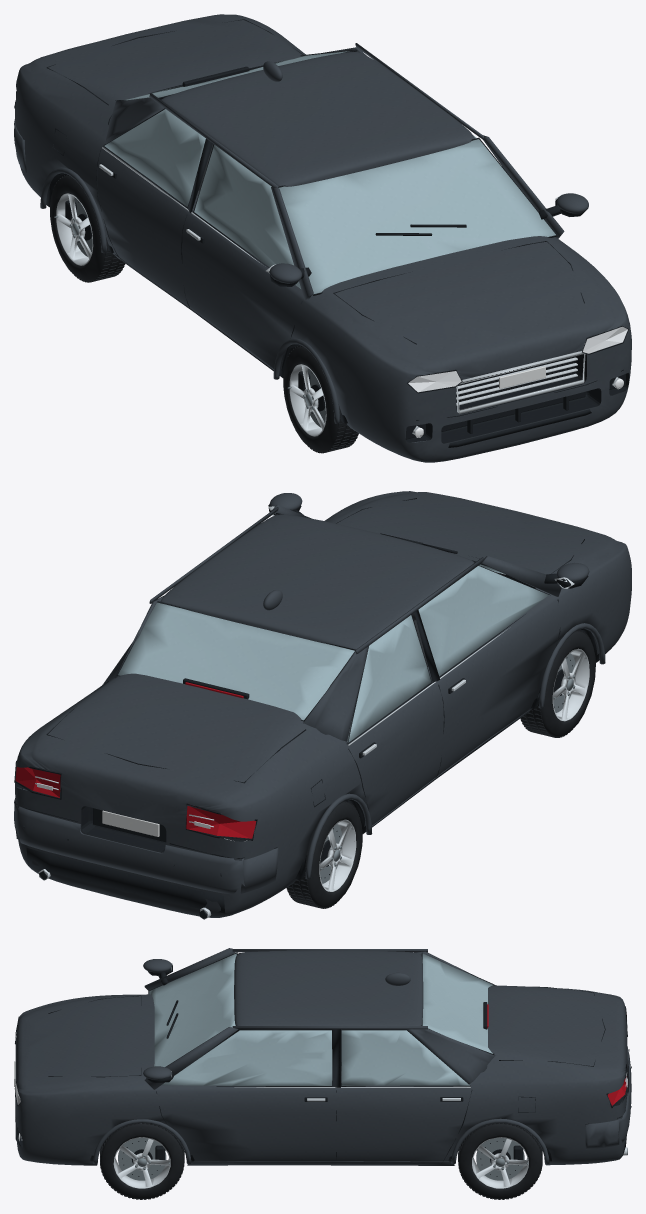
Rendered from sedan-lod0.glb.
3 views of the same model, one above another, from view 1: azimuth 30°, elevation 25°; view 2: azimuth 150°, elevation 25°; view 3: azimuth 270°, elevation 25° (orthographic). The views are drawn at different scales.
Parts seen in each view (by area): view 1: body_paint, body_glass.001, body_black.001, wheelpart_rubber.001 (×2), body_chrome, wheelpart_chrome (×2), body_clearlens; view 2: body_paint, body_glass.001, body_black.001, wheelpart_rubber.001 (×2), wheelpart_chrome (×2), body_redlens, body_chrome, body_white; view 3: body_paint, body_glass.001, wheelpart_rubber.001 (×2), body_black.001, wheelpart_chrome (×2), wheelpart_steel.001 (×2), body_chrome.
Boxes of the visible parts, bbox=[...] form: body_paint: bbox=[14, 14, 631, 462]; body_glass.001: bbox=[104, 51, 555, 294]; body_black.001: bbox=[14, 19, 629, 447]; wheelpart_rubber.001 (×2): bbox=[50, 174, 358, 453]; body_chrome: bbox=[99, 147, 621, 434]; wheelpart_chrome (×2): bbox=[56, 193, 326, 436]; body_clearlens: bbox=[408, 326, 627, 437]; body_paint: bbox=[14, 491, 631, 917]; body_glass.001: bbox=[118, 564, 548, 744]; body_black.001: bbox=[14, 498, 599, 918]; wheelpart_rubber.001 (×2): bbox=[286, 630, 595, 908]; wheelpart_chrome (×2): bbox=[319, 648, 589, 891]; body_redlens: bbox=[15, 682, 256, 838]; body_chrome: bbox=[35, 506, 574, 919]; body_white: bbox=[102, 810, 159, 836]; body_paint: bbox=[15, 948, 631, 1165]; body_glass.001: bbox=[149, 953, 493, 1085]; wheelpart_rubber.001 (×2): bbox=[100, 1123, 542, 1199]; body_black.001: bbox=[14, 952, 631, 1164]; wheelpart_chrome (×2): bbox=[113, 1137, 528, 1188]; wheelpart_steel.001 (×2): bbox=[118, 1138, 524, 1180]; body_chrome: bbox=[21, 963, 627, 1155].
Bounding box in the file's own units: 2.19 × 1.55 × 4.86.
Materials: 10 (10 with a texture image).
